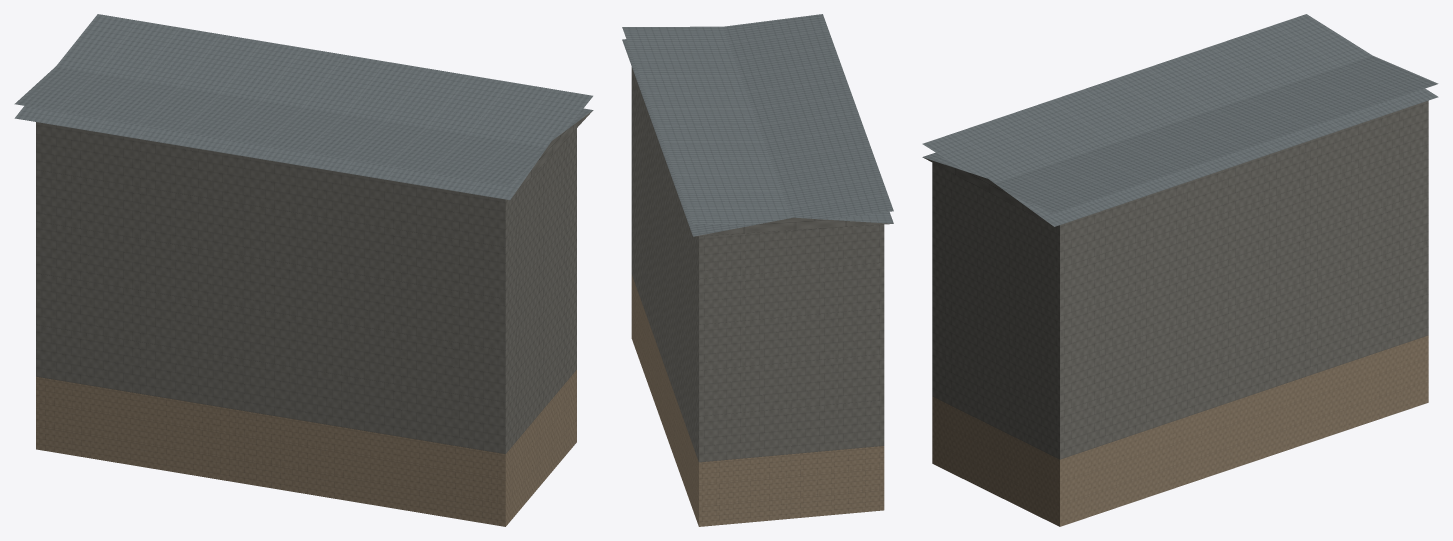
The model's file is bld_c6_10_475.gltf.
3 views of the same model, side by side, from view 1: azimuth 30°, elevation 25°; view 2: azimuth 150°, elevation 25°; view 3: azimuth 270°, elevation 25° (orthographic). The views are drawn at different scales.
Visible parts, largest first — view 1: bld_c6_10_475; view 2: bld_c6_10_475; view 3: bld_c6_10_475.
Boxes of the visible parts, x1,y1,x2,y2 form: bld_c6_10_475: (14,14,593,526); bld_c6_10_475: (622,14,893,526); bld_c6_10_475: (922,14,1438,526).
Size of the model in its own units: 32.49 by 24.2 by 35.5.
Materials: 4 (4 with a texture image).
